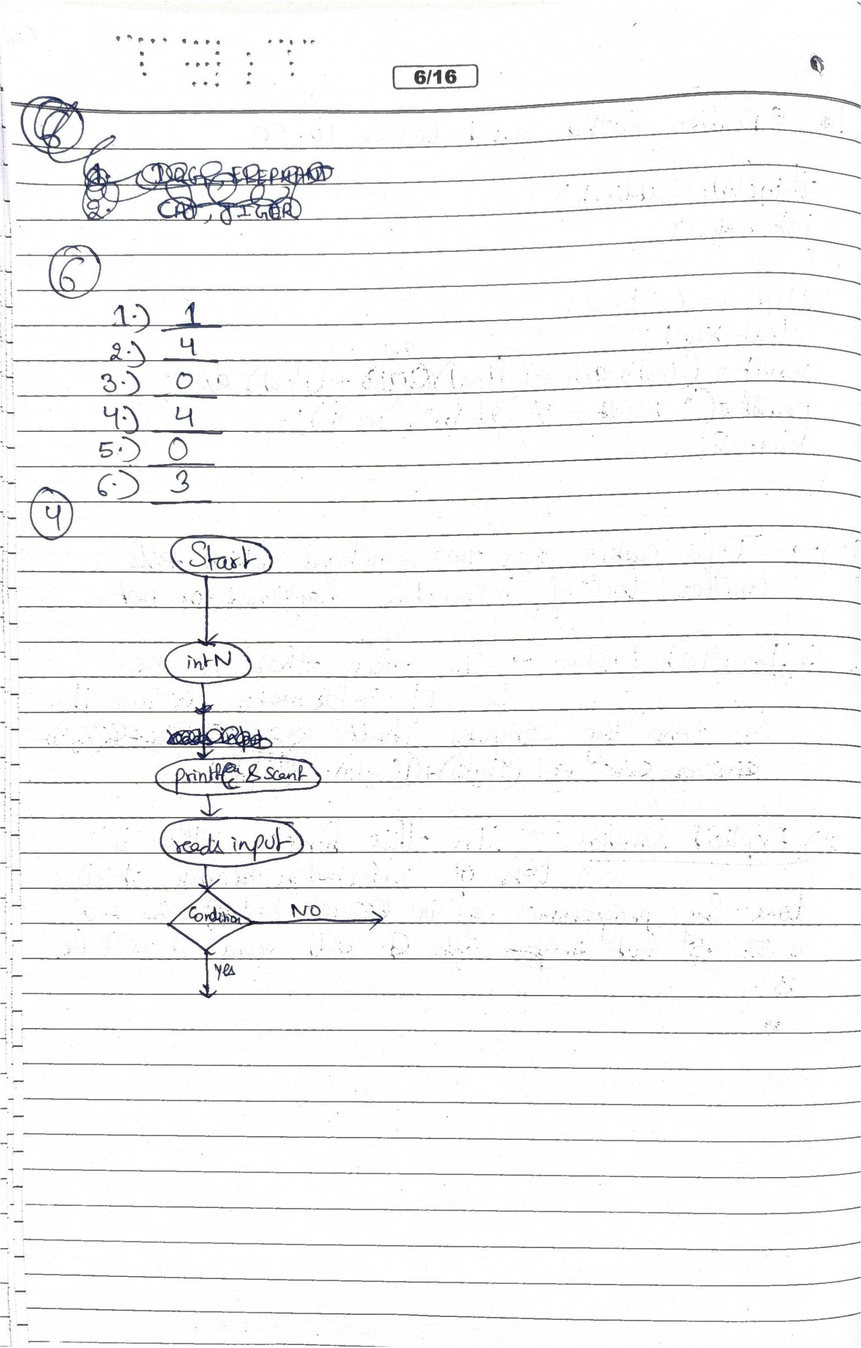cuttings: (11, 88, 341, 230), (162, 722, 281, 754)
